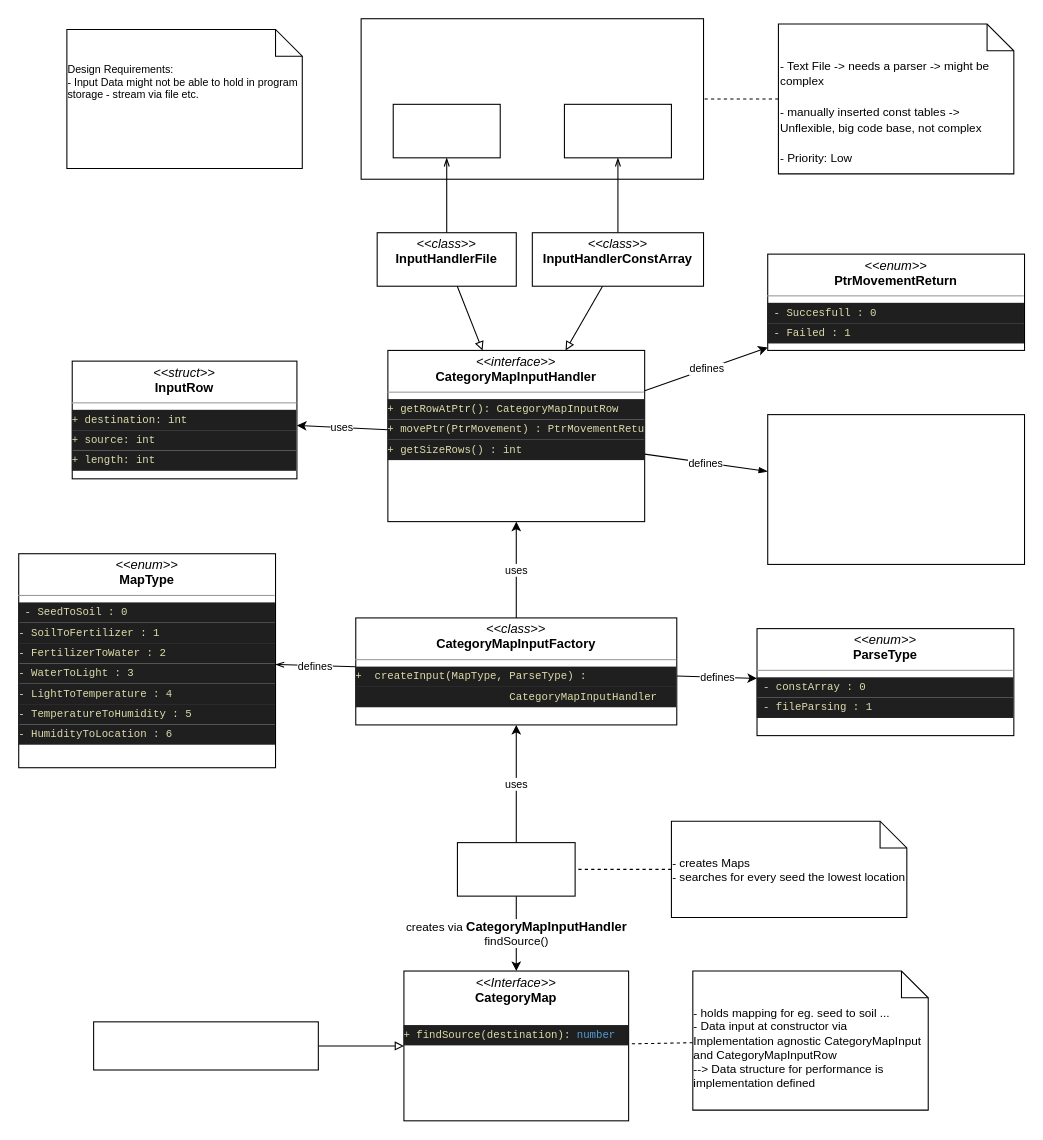
Image size: 1043x1140. Some labels were removed from this diagram. Here are the shapes that lost their labels. From the top down, the box of each, then its label:
(360, 18, 704, 179): Data
(392, 103, 500, 158): File
(563, 103, 671, 158): Array
(767, 414, 1025, 564): <<enum>> PtrMovement - Next : 0 - Prior : 1 - Start : 2 - End : 3
(456, 842, 575, 896): Solver
(93, 1021, 318, 1070): <<class>> CategoryMapLocalStorage
